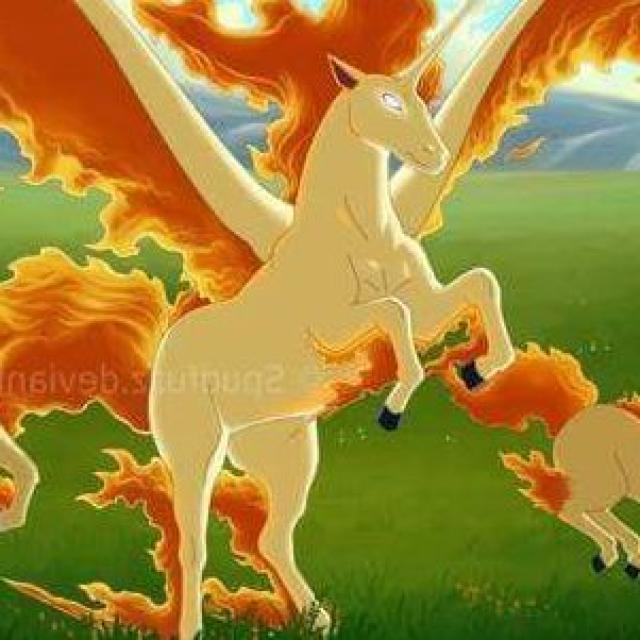Rapidash: (117, 0, 508, 637)
